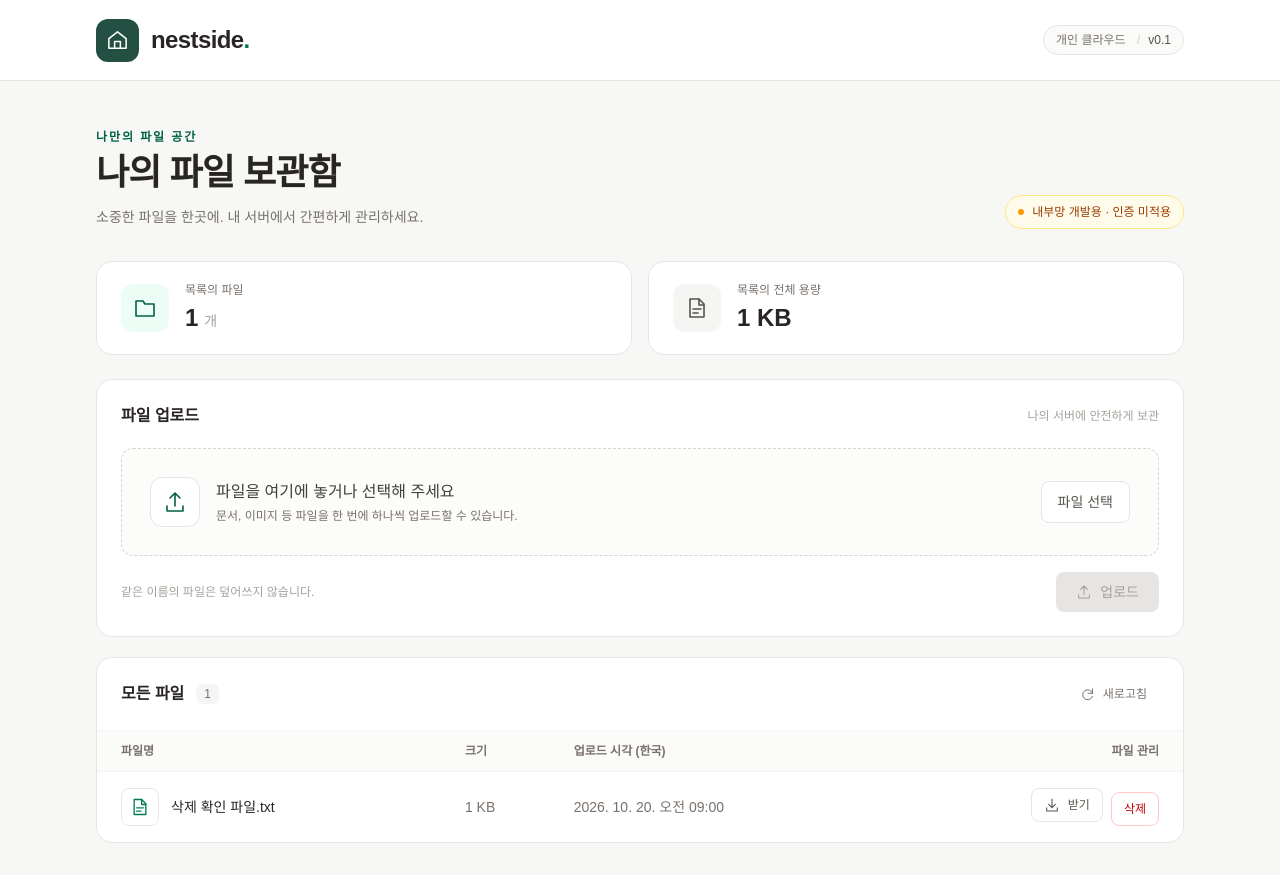
Test: 정리 대기 응답을 일반 성공과 구분한다
Click the button "삭제": {"x": 1135, "y": 809} x1=1111 y1=792 x2=1159 y2=826
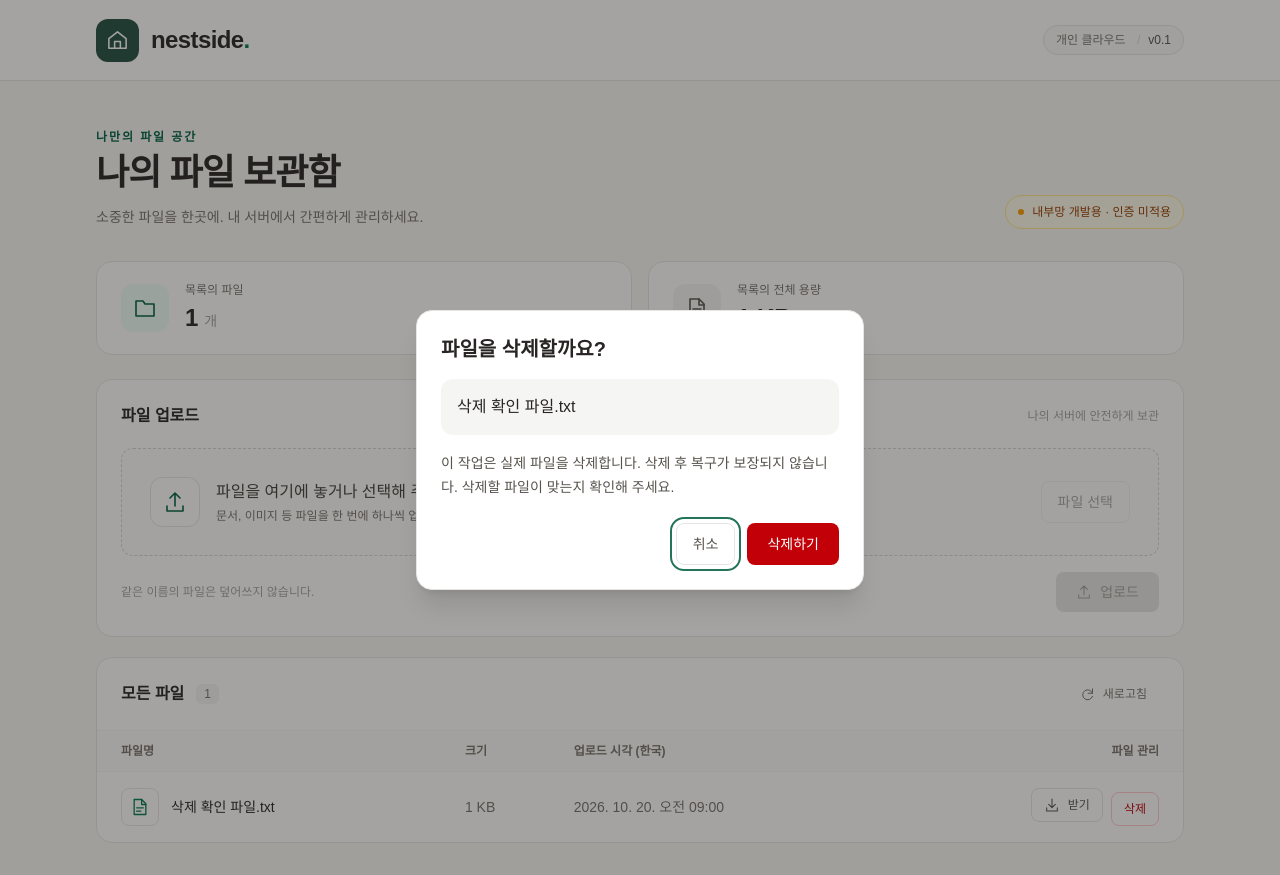
Click the button "삭제하기": {"x": 793, "y": 544} x1=748 y1=523 x2=839 y2=565
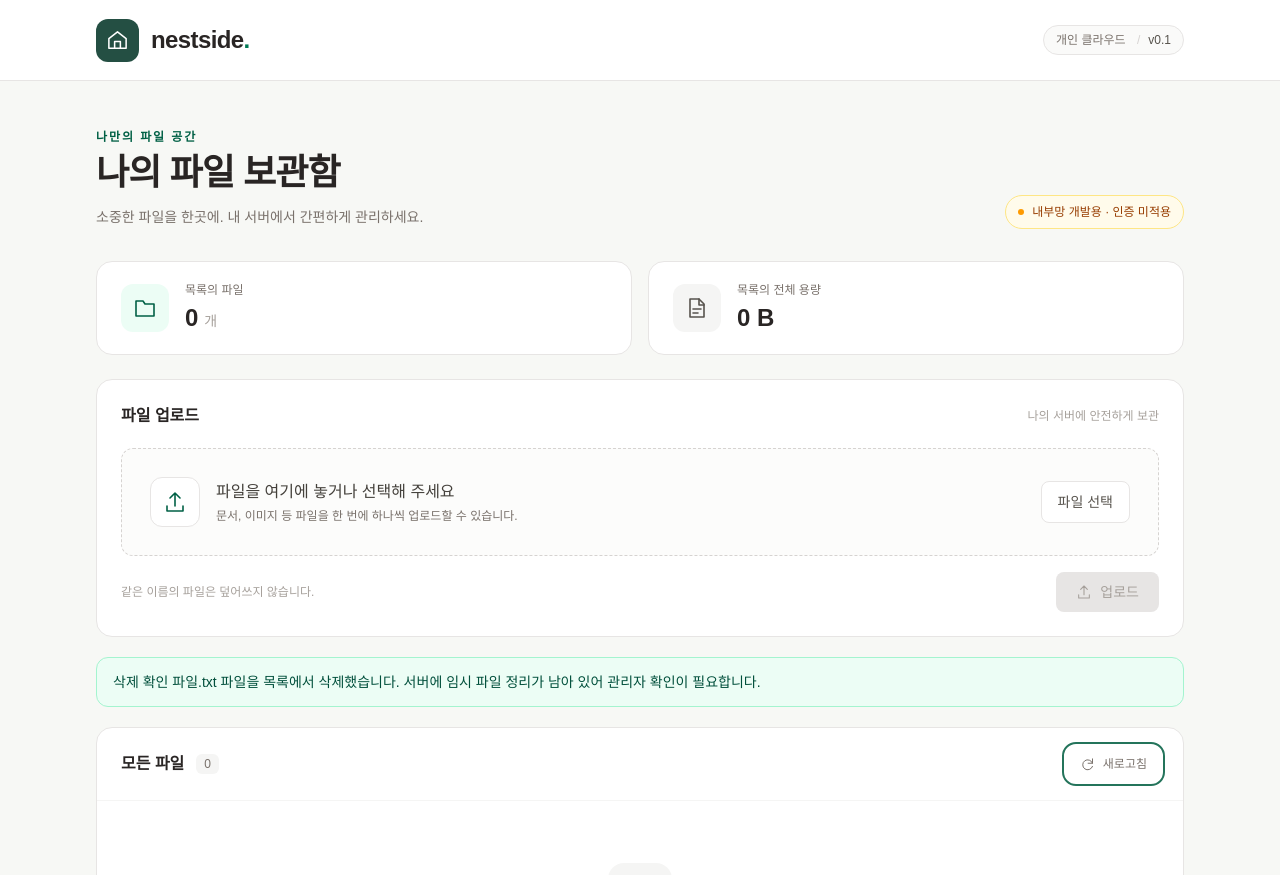
Expected: the text "삭제 확인 파일.txt 파일을 목록에서 삭제했습니다. 서버에 임시 파일 정리가 남아 있어 관리자 확인이 필요합니다." is shown, x1=96 y1=657 x2=1184 y2=707
